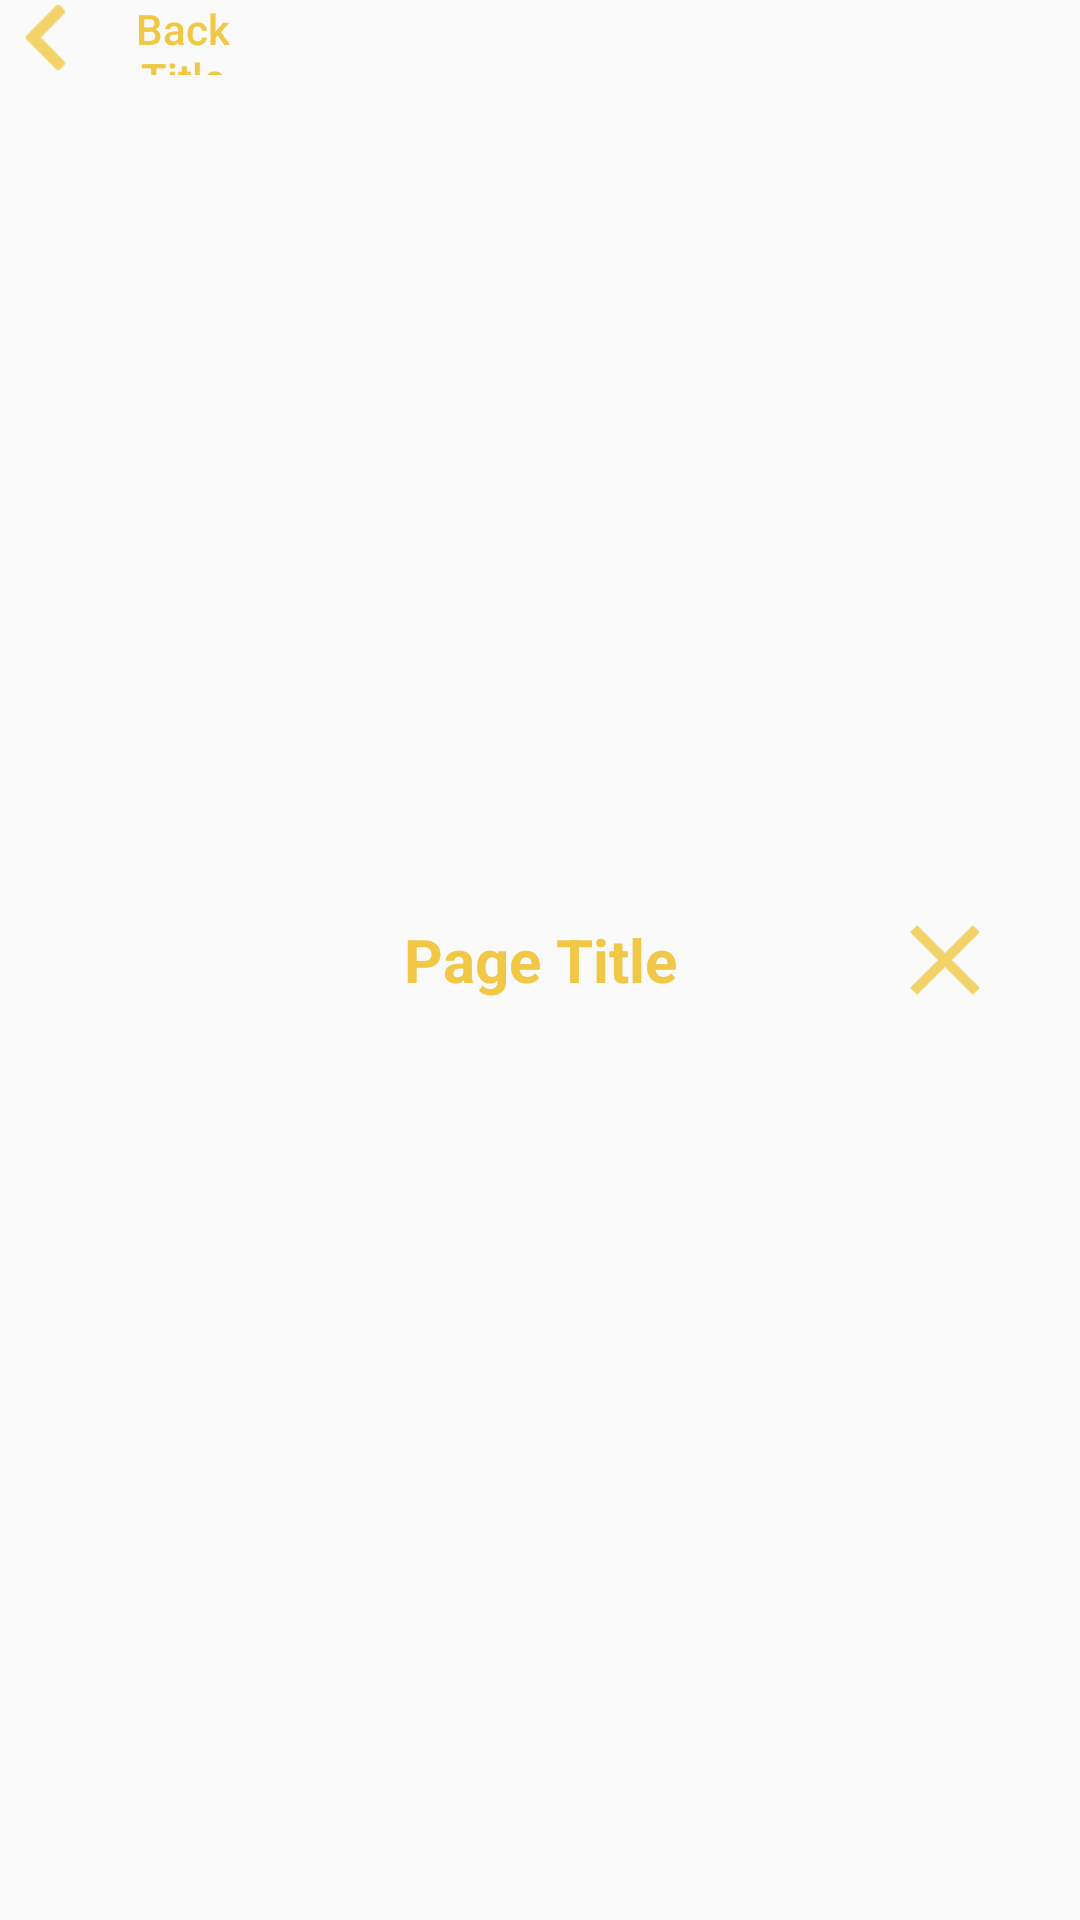

Where to tap for icons on this 1080×1920 app screen, as (x=x, y=y):
close: (x=945, y=960)
